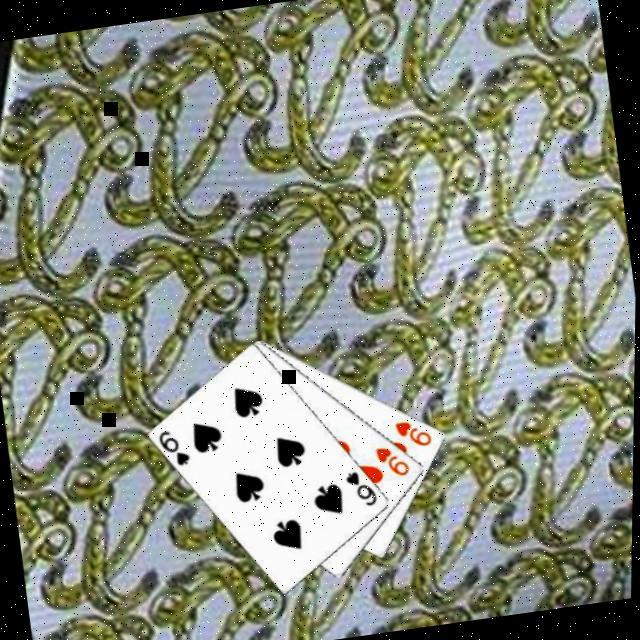6S: (345, 468, 386, 514), (157, 427, 198, 473)
9H: (375, 442, 417, 484), (395, 416, 439, 455)
